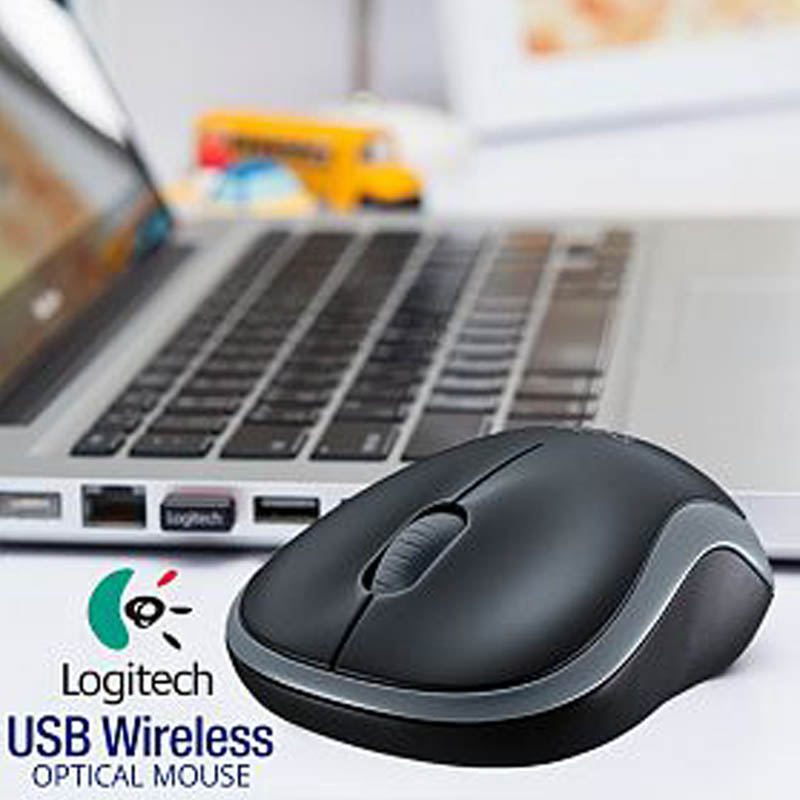logitech-mouse-m185: (248, 403, 780, 724)
